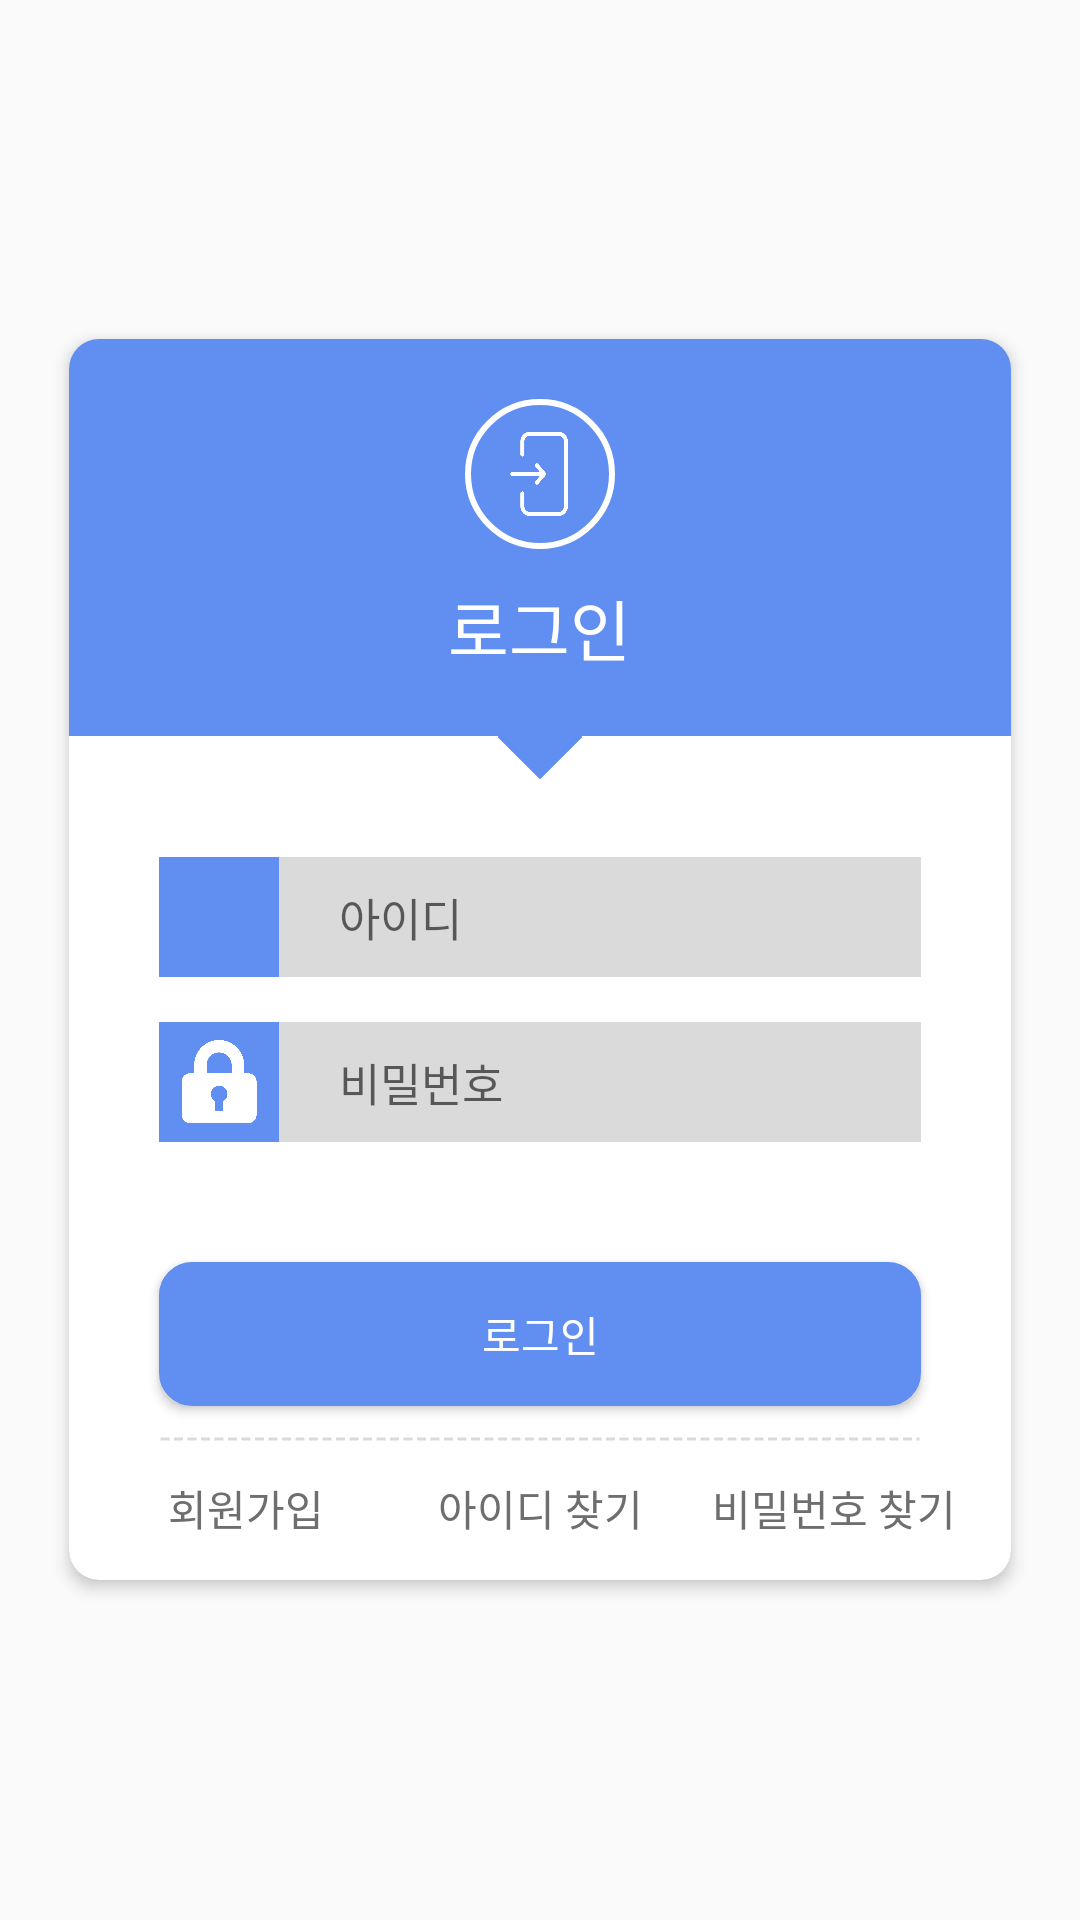

Point at icon controls on the screen. Image size 1080×1920, points as point (x, y).
passwd: point (219, 1082)
signin: point (540, 474)
